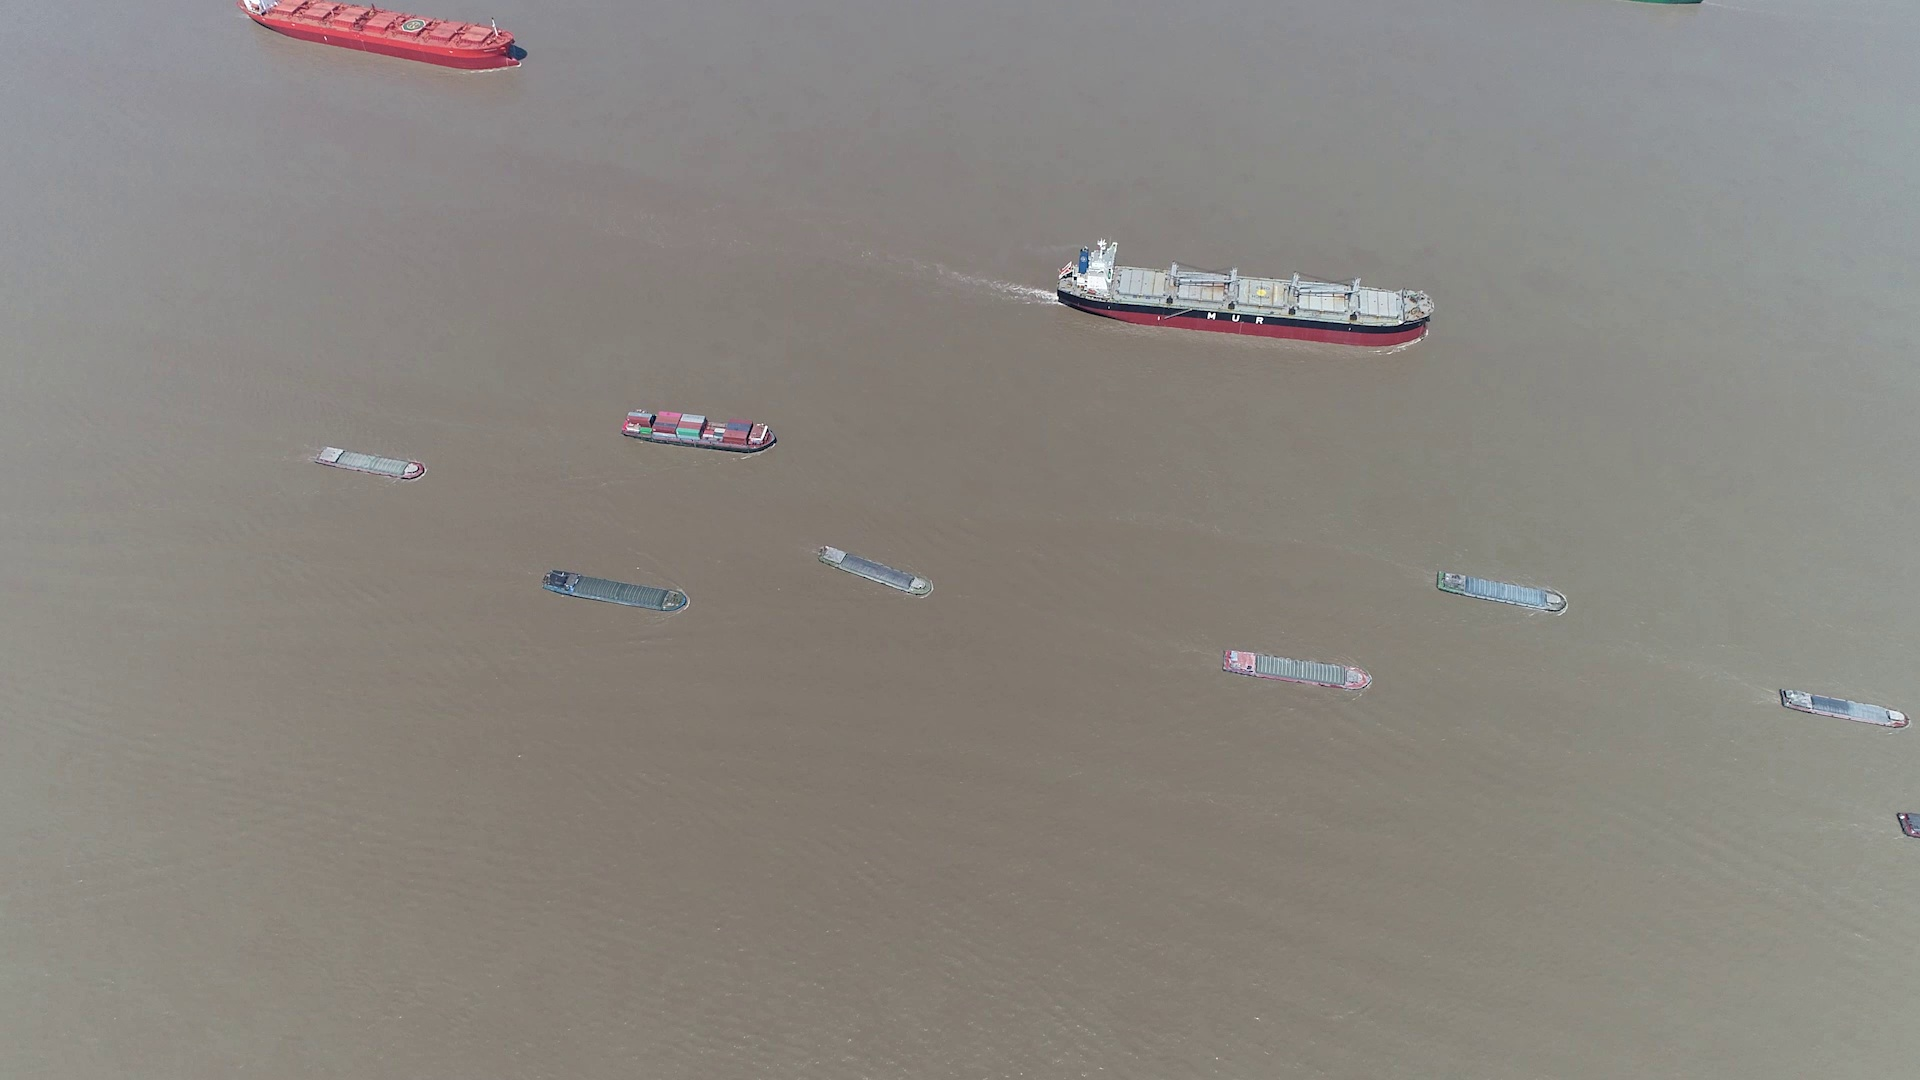ship: (1058, 243, 1437, 345), (241, 0, 524, 69), (621, 407, 779, 454), (543, 568, 688, 612), (1222, 649, 1374, 690), (1775, 686, 1909, 729), (819, 546, 932, 597), (1437, 570, 1567, 615), (313, 444, 426, 480), (1896, 812, 1919, 843), (1638, 0, 1704, 7)
